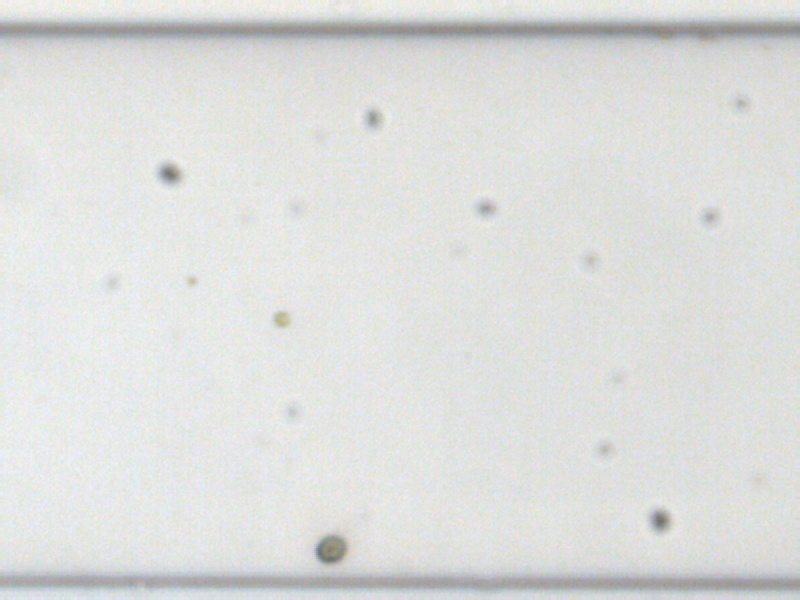Chlorella: (270, 308, 293, 327), (185, 274, 199, 287)
Effrenium: (314, 534, 346, 564)
